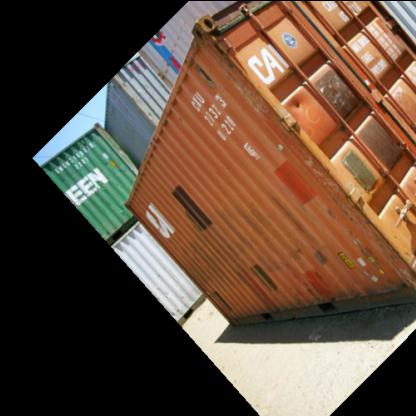Damage: (262, 90, 336, 191), (332, 192, 410, 279), (195, 29, 267, 115), (250, 202, 290, 264), (292, 229, 330, 272)
